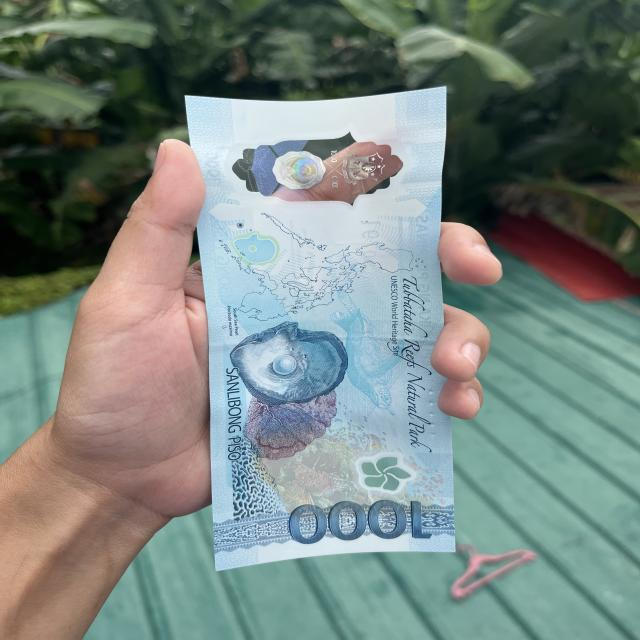clear_window: (188, 130, 444, 212)
sampaguita: (346, 450, 418, 493)
security_thread: (209, 319, 443, 346)
value: (282, 498, 434, 542)
